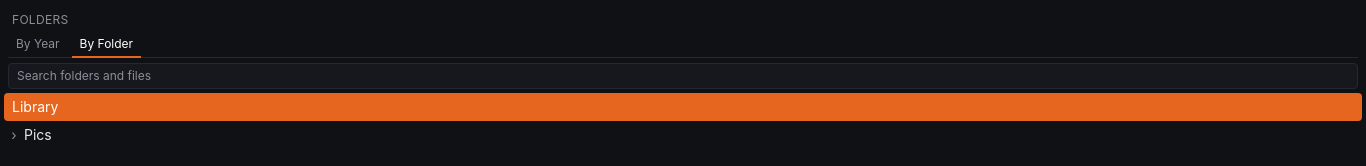
Scenario: FoldersSection › search filters the folder tree by file name and expands matches
Type "rome" into the search field.
click(683, 76); type("rome")  # box [8,63,1358,89]
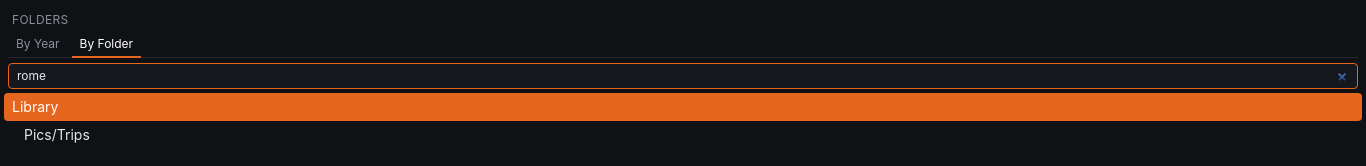
Expected: the button "Pics/Trips" is shown, [24,121,1362,149]
